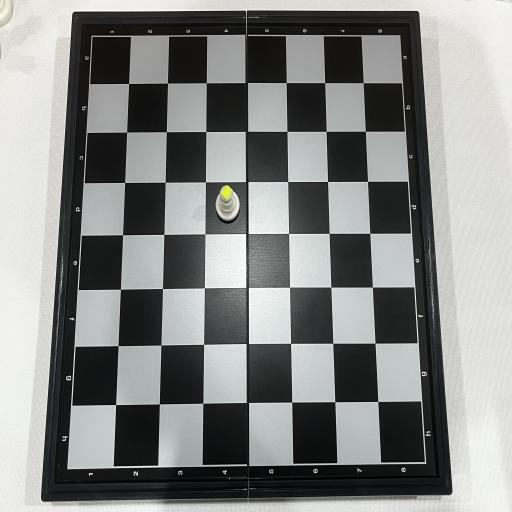White Pawn: (216, 186, 240, 222)
